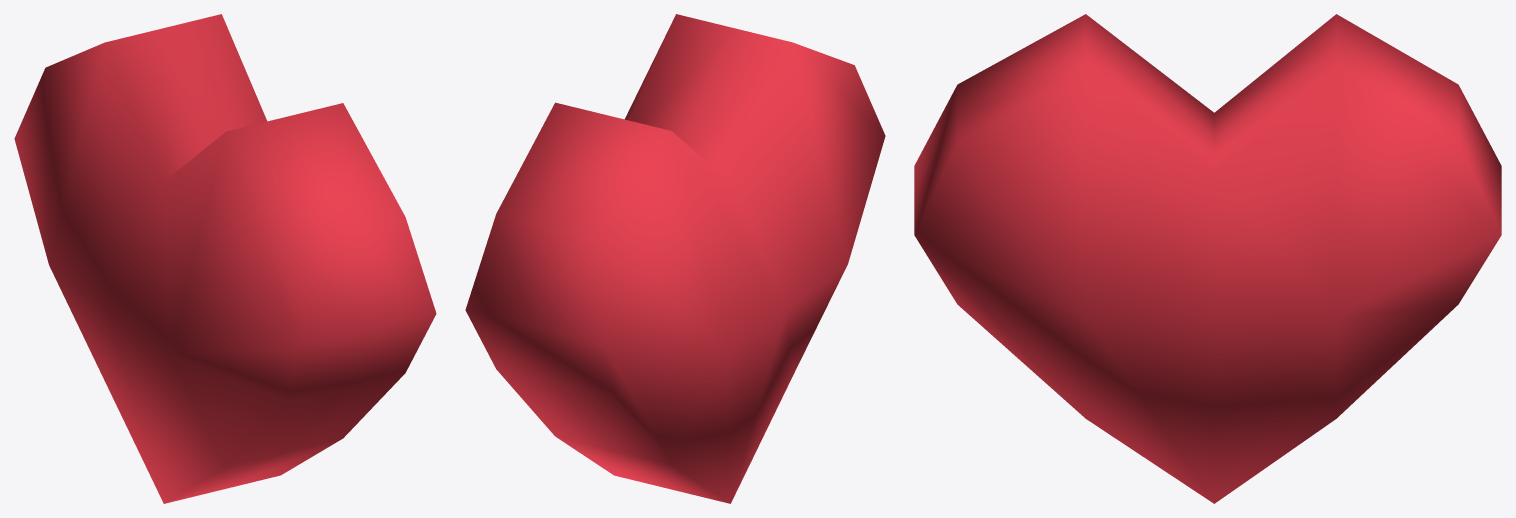
3 views of the same model, side by side, from view 1: azimuth 30°, elevation 25°; view 2: azimuth 150°, elevation 25°; view 3: azimuth 270°, elevation 25° (orthographic). The views are drawn at different scales.
Parts seen in each view (by area): view 1: Cube; view 2: Cube; view 3: Cube.
Boxes of the visible parts, x1=… form: Cube: x1=14, y1=14, x2=436, y2=503; Cube: x1=465, y1=14, x2=885, y2=503; Cube: x1=914, y1=14, x2=1501, y2=503.
Size of the model in its own units: 1.29 by 2.26 by 2.79.
